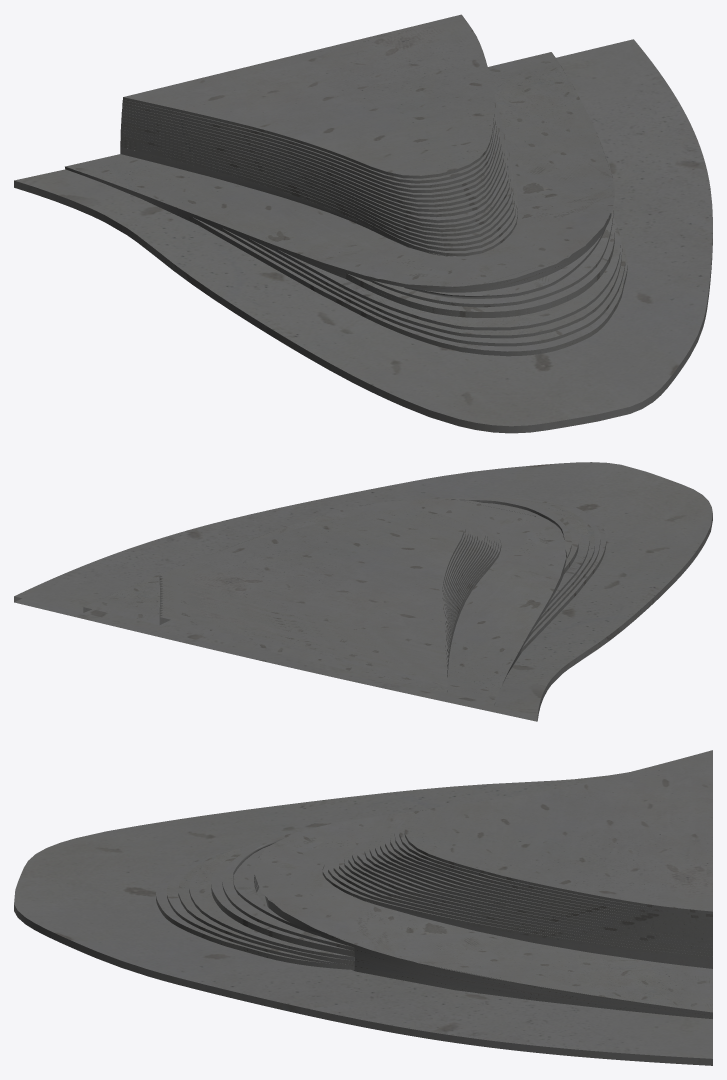
Rendered from site.glb.
3 views of the same model, one above another, from view 1: azimuth 30°, elevation 25°; view 2: azimuth 150°, elevation 25°; view 3: azimuth 270°, elevation 25° (orthographic). The views are drawn at different scales.
Visible parts, largest first — view 1: site; view 2: site; view 3: site.
Boxes of the visible parts, left/top/right/bottom form: site: left=14, top=14, right=712, bottom=433; site: left=14, top=462, right=712, bottom=721; site: left=14, top=750, right=712, bottom=1065.
Bounding box in the file's own units: 45 × 6.46 × 44.96.
1 material, 1 textured.
